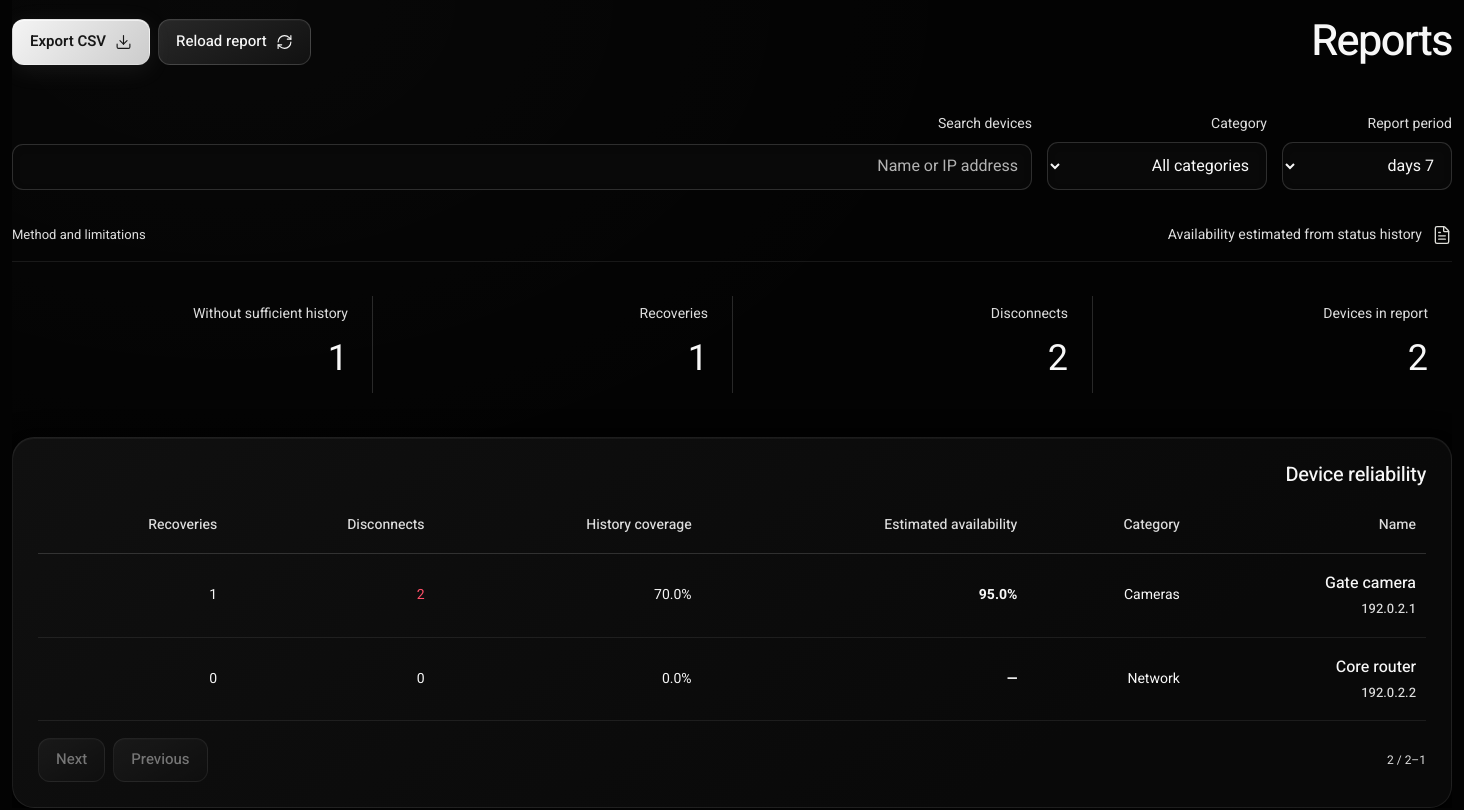
it: operational data integrity › filters reports without presenting missing history as 100%
The image size is (1464, 810).
Expected: the text "Gate camera" is shown, [1325,572,1416,595]
Expected: the text "—" is shown, [1007,668,1017,689]
Select "Cameras" in the dropdown labelled "Category" at (1157,166), box [1047,142,1267,190]
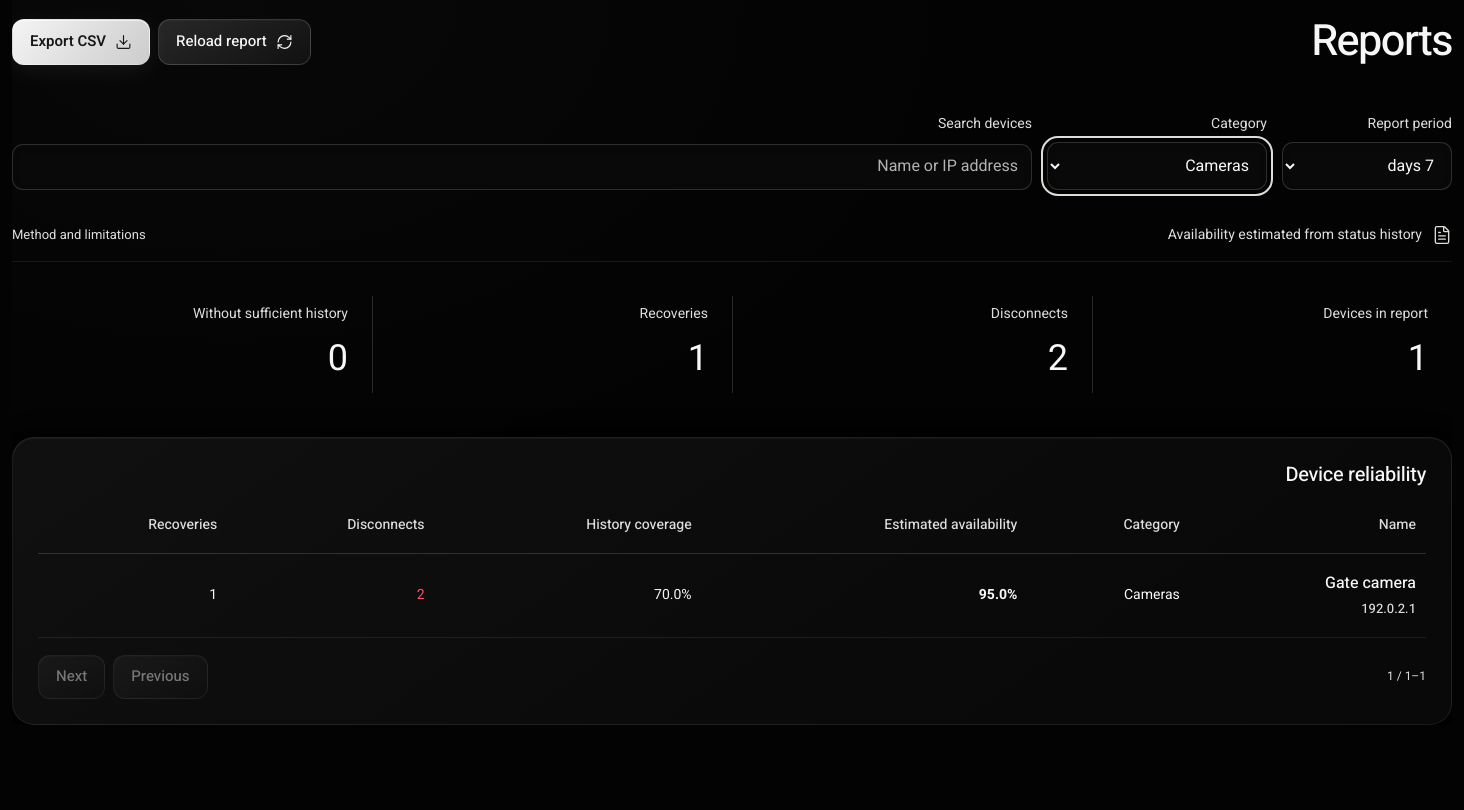
Expected: the text "Gate camera" is shown, [1325,572,1416,595]
Expected: the button "Core router" is gone
